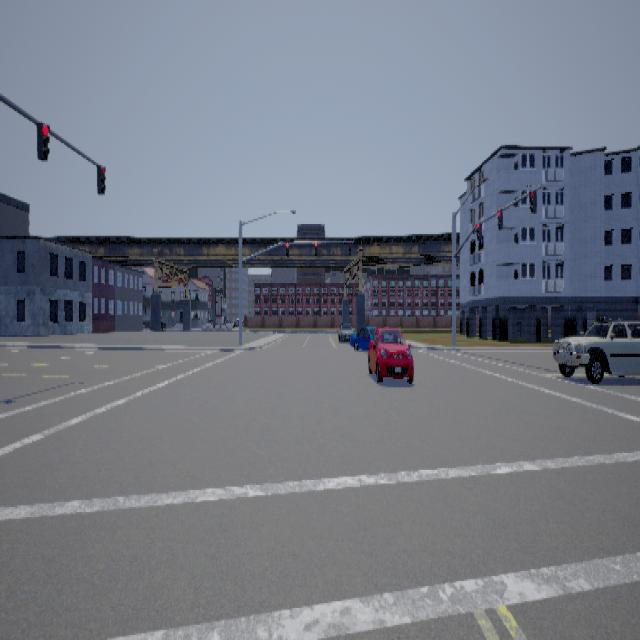red_light: (38, 120, 51, 160), (98, 163, 107, 194), (530, 189, 538, 212), (498, 207, 504, 229), (477, 221, 483, 239), (286, 242, 290, 256), (315, 241, 318, 254), (350, 241, 352, 254)
vehicle: (554, 315, 640, 382), (368, 325, 415, 382), (338, 322, 373, 355)
